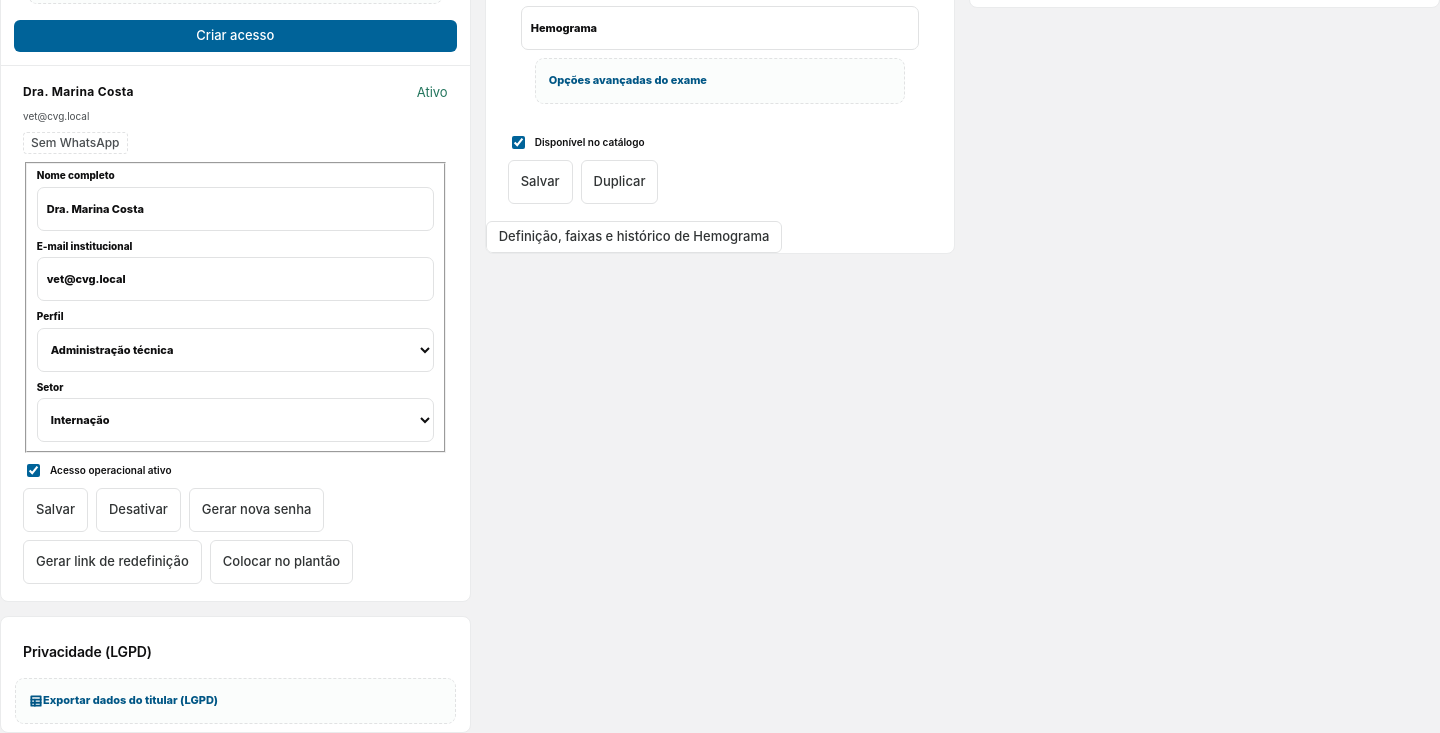
Test: AdminConsole › cancels the link confirmation, requires reauthentication for ADMIN and hides the action for self or inactive access
(page scrolled)
Expected: the text "Dra. Marina Costa" is shown, [23,83,134,101]
Click the button "Gerar link de redefinição".
click(112, 562)  # box [23,540,202,584]
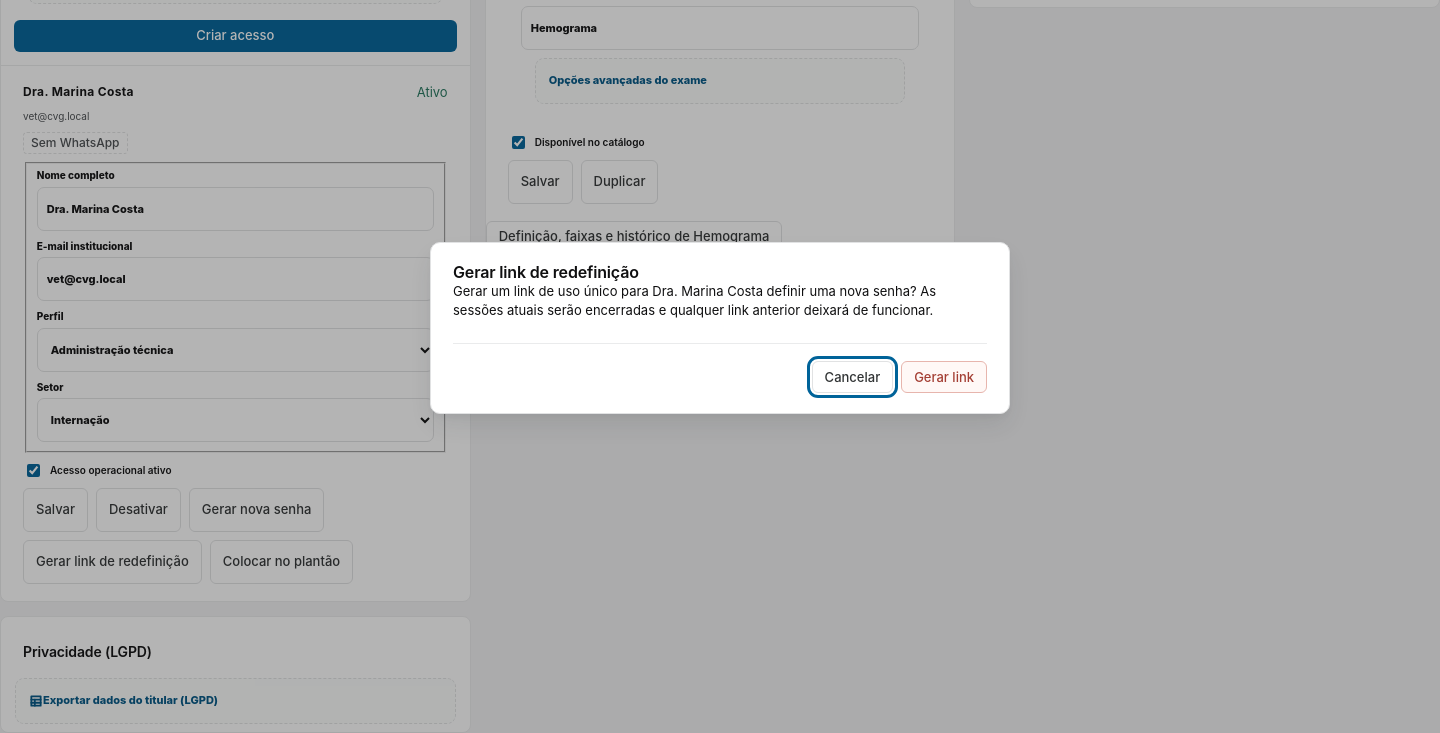
Click the button "Cancelar".
click(852, 377)  # box [812,361,893,393]
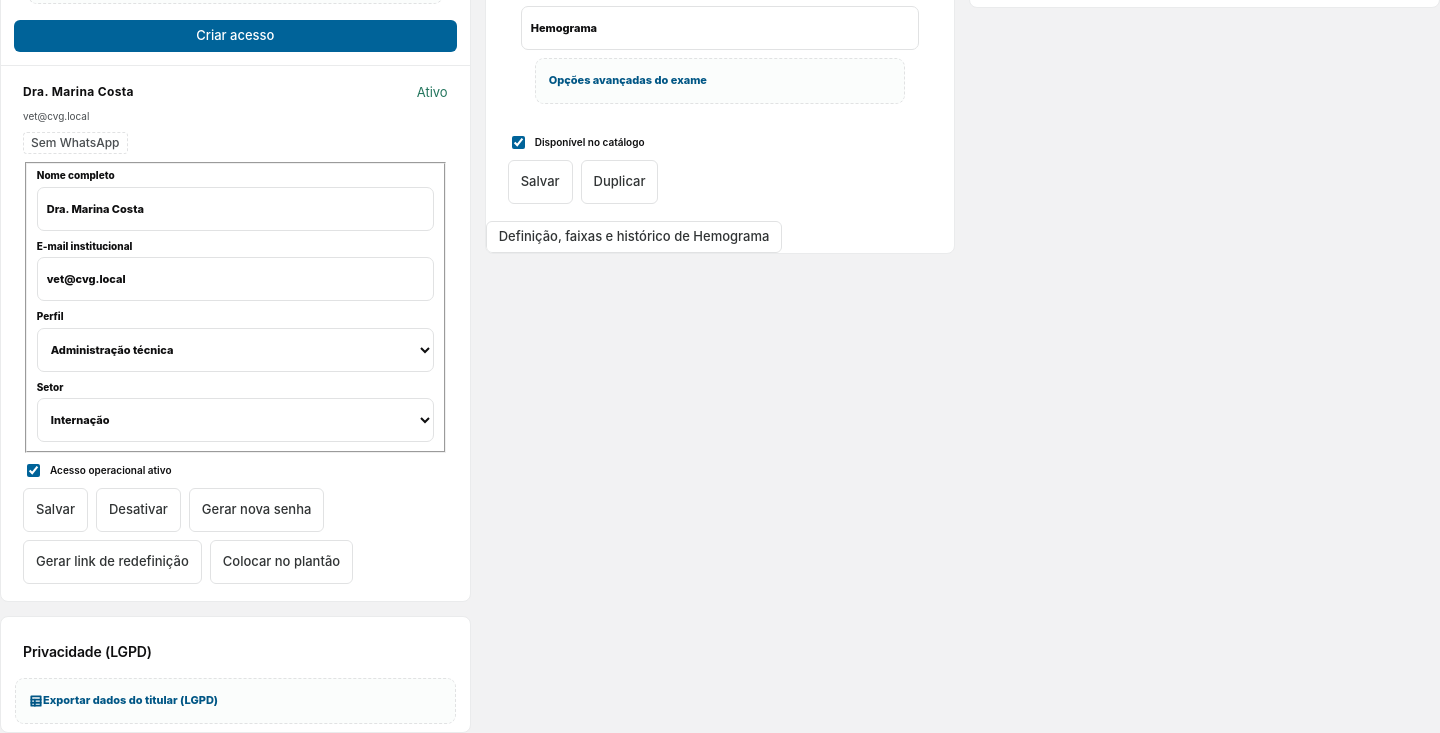
Click the button "Gerar link de redefinição".
click(112, 562)  # box [23,540,202,584]
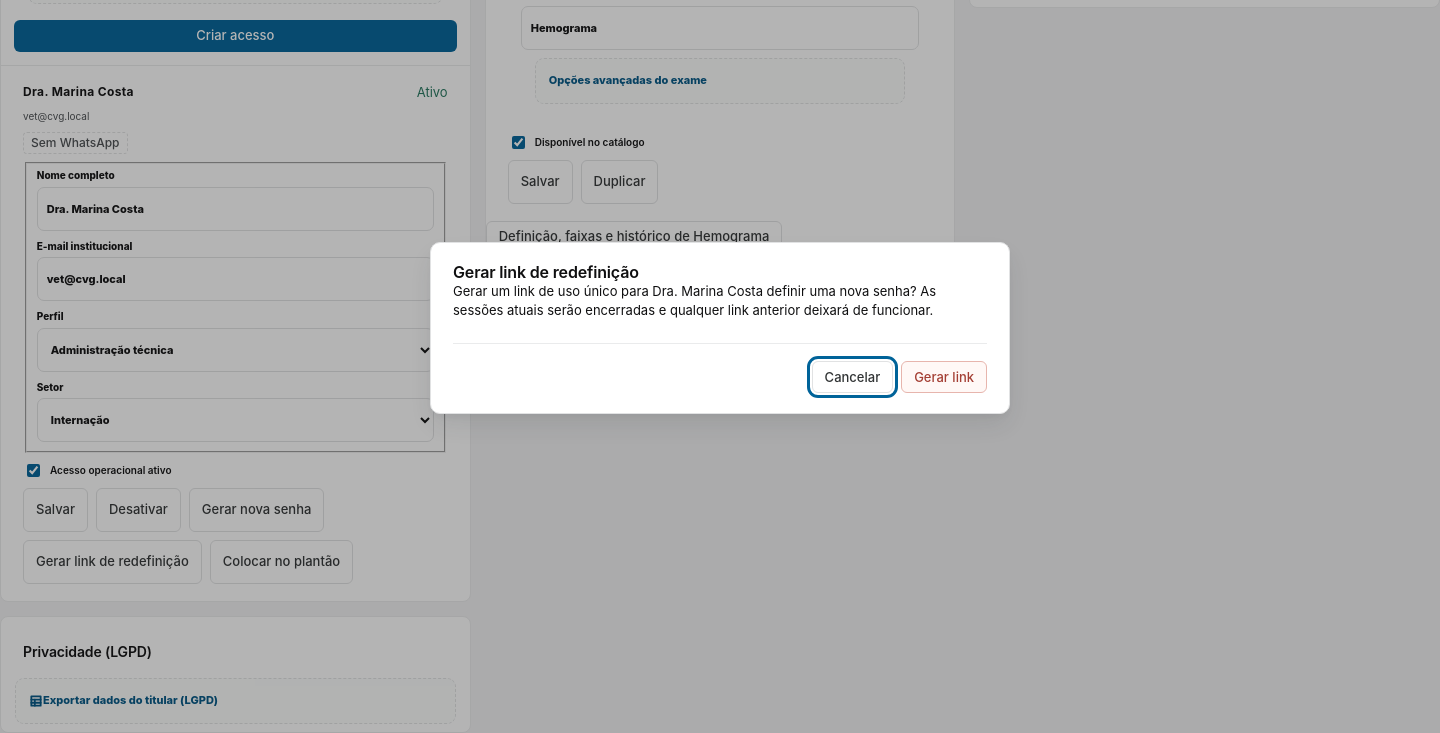
Click the button "Gerar link".
click(944, 377)  # box [901,361,987,393]
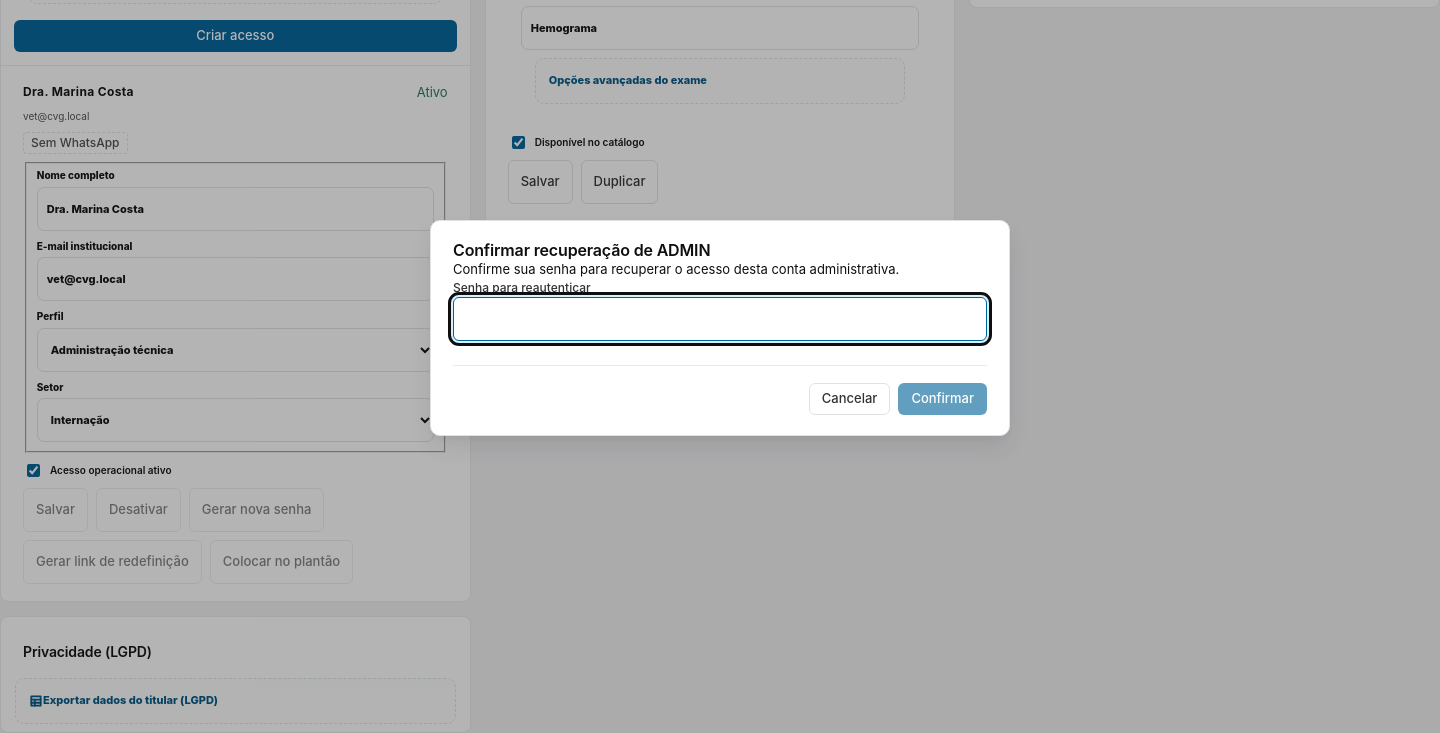
Type "admin-password-1234" into the password field labelled "Senha para reautenticar".
click(720, 319); type("admin-password-1234")  # box [453,297,987,341]
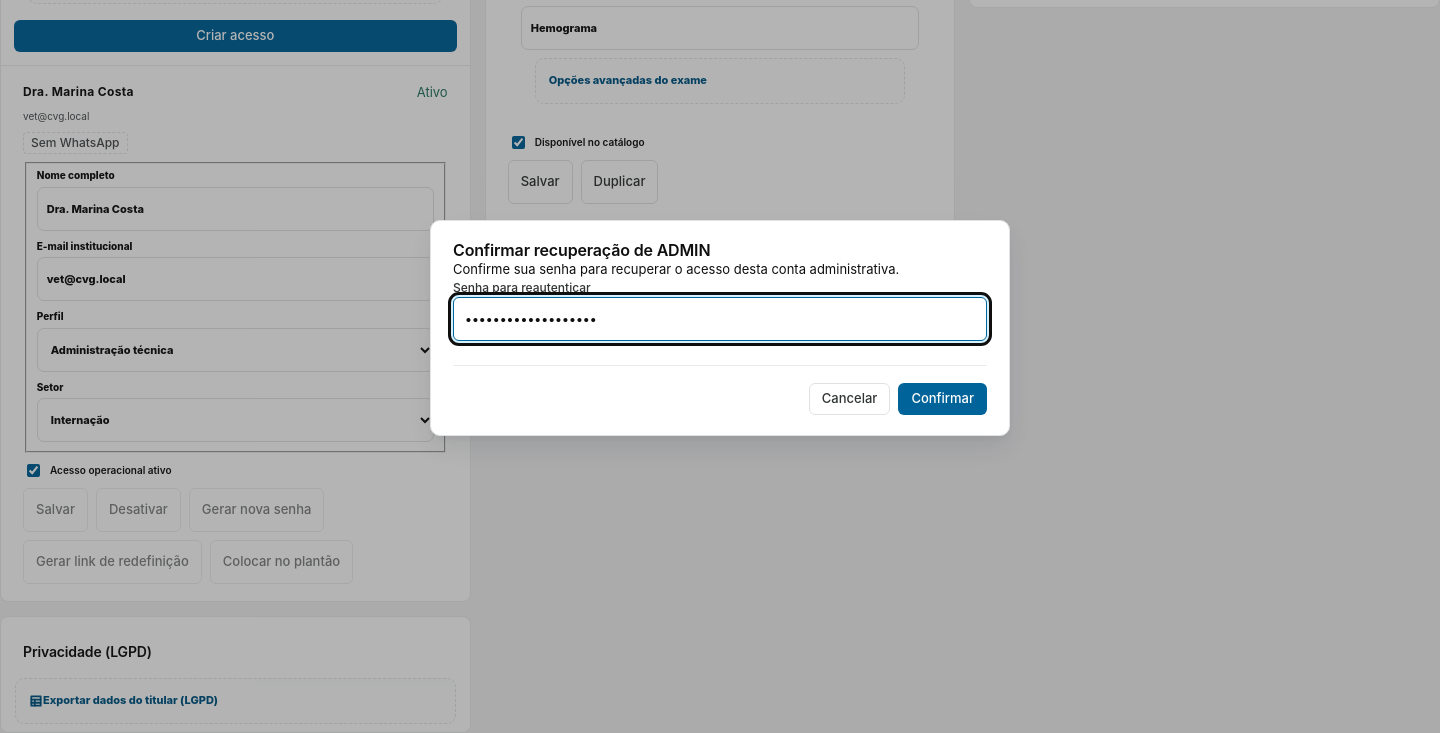
Click the button "Confirmar".
click(943, 399)  # box [898,383,987,415]
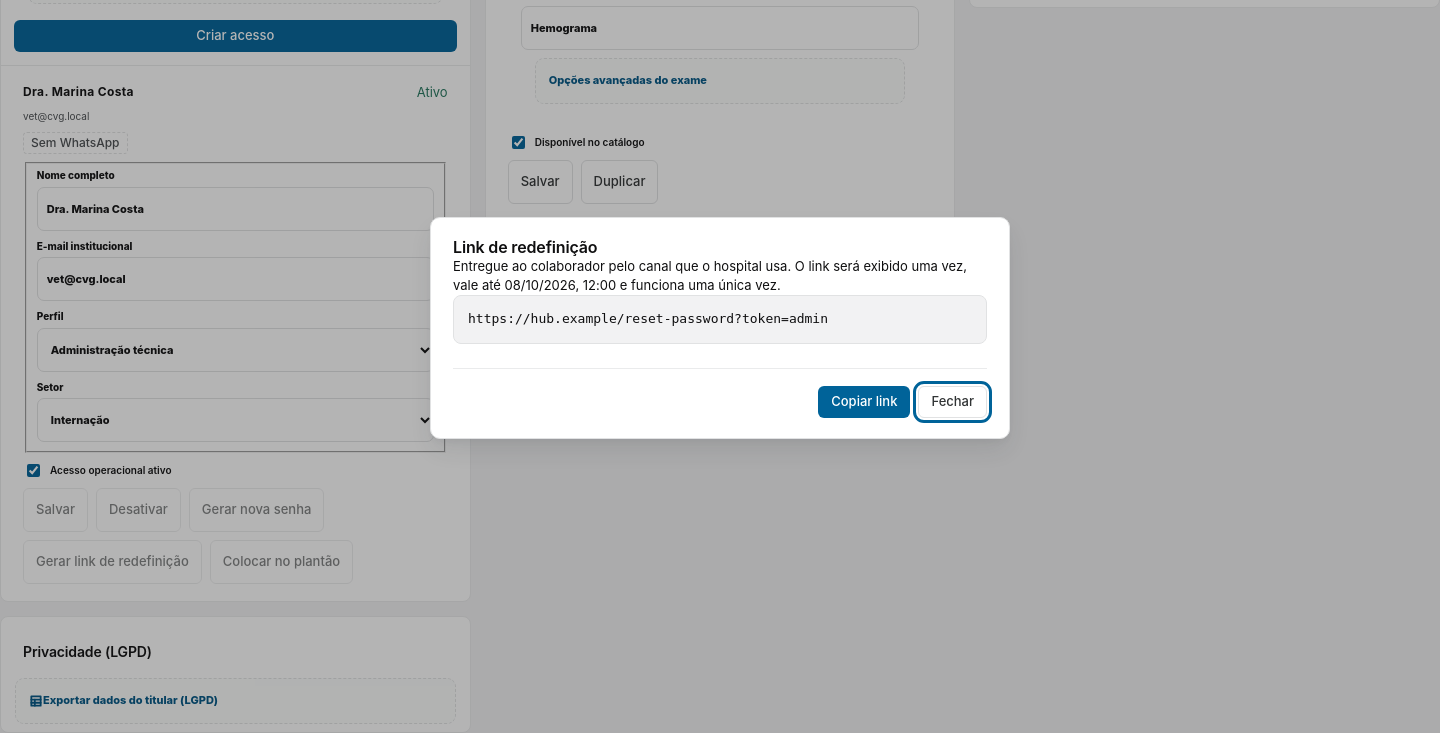
Result: the dialog "Link de redefinição" is shown at [430,217,1010,439]
